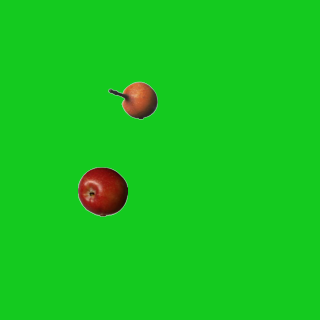Apple Braeburn: (77, 166, 127, 216)
Granadilla: (107, 75, 157, 125)
